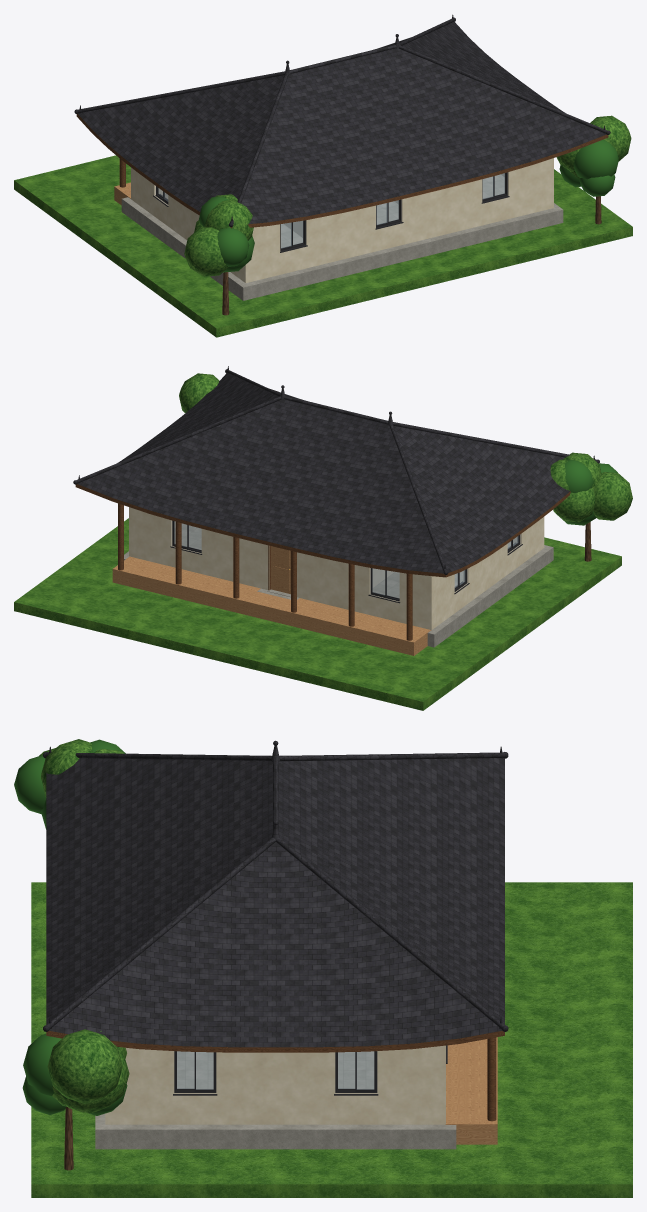
File: b_korean_hanok.gltf
The picture shows the model from 3 angles, top to bottom: view 1: azimuth 30°, elevation 25°; view 2: azimuth 150°, elevation 25°; view 3: azimuth 270°, elevation 25°; orthographic projection. The views are drawn at different scales.
Parts seen in each view (by area): view 1: S_korean_hanok; view 2: S_korean_hanok, D_korean_hanok_F1_S2_Door0; view 3: S_korean_hanok.
Part boxes in pixels (bbox=[...]): S_korean_hanok: bbox=[14, 14, 632, 337]; S_korean_hanok: bbox=[14, 366, 632, 710]; D_korean_hanok_F1_S2_Door0: bbox=[271, 546, 290, 594]; S_korean_hanok: bbox=[14, 739, 632, 1197].
Bounding box in the file's own units: 20.38 × 7.81 × 16.46.
19 materials, 12 textured.
